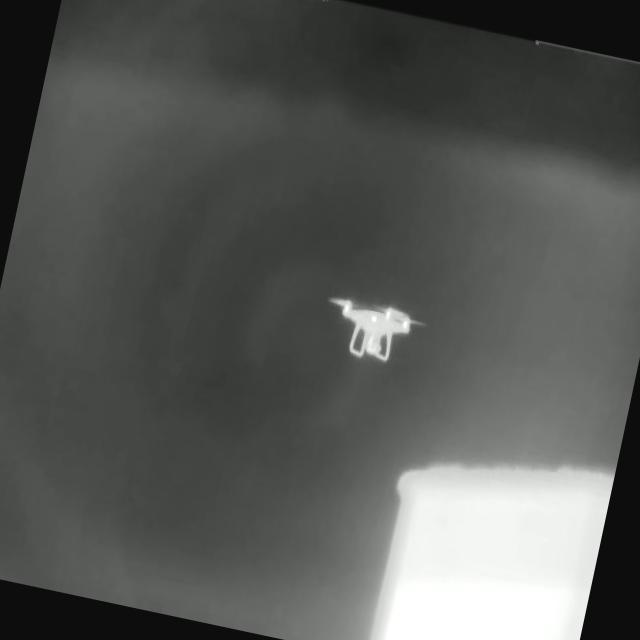DRONE: (320, 291, 435, 364)
